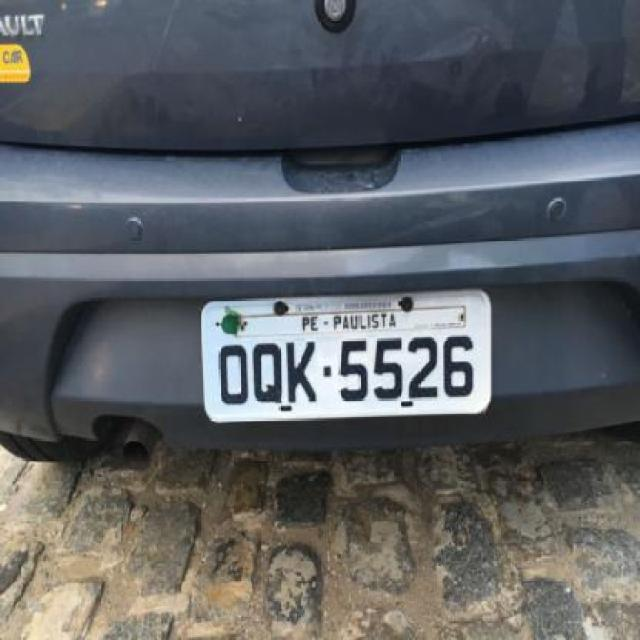old_plate: (196, 283, 500, 432)
